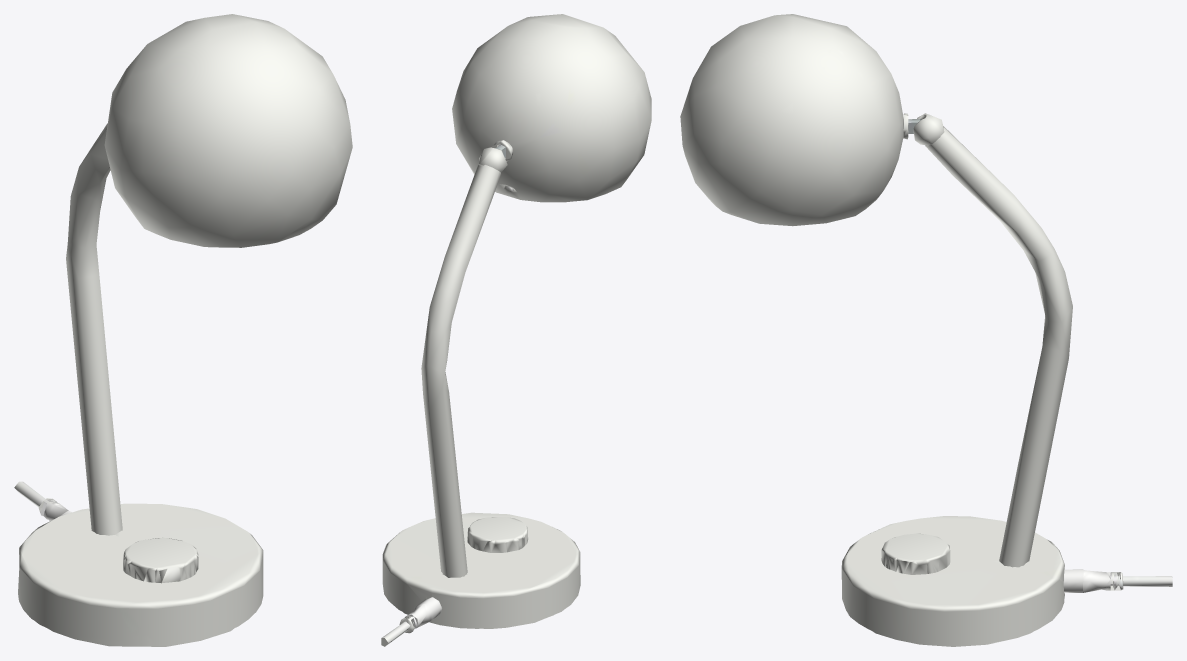
Rendered from 25 - KORVSNÖRE LED desk lamp - dimmablewhite.glb.
3 renders of one model, left to right at view 1: azimuth 30°, elevation 25°; view 2: azimuth 150°, elevation 25°; view 3: azimuth 270°, elevation 25°, orthographic. The views are drawn at different scales.
Visible parts, largest first — view 1: ASY_ART_80585837_S01_NV01; view 2: ASY_ART_80585837_S01_NV01; view 3: ASY_ART_80585837_S01_NV01.
Boxes of the visible parts, box(x1,y1,x2,y2) form: ASY_ART_80585837_S01_NV01: box(14, 14, 352, 646); ASY_ART_80585837_S01_NV01: box(381, 14, 651, 646); ASY_ART_80585837_S01_NV01: box(680, 14, 1172, 646).
Size of the model in its own units: 0.1219 by 0.3437 by 0.266.
2 materials, 2 textured.
